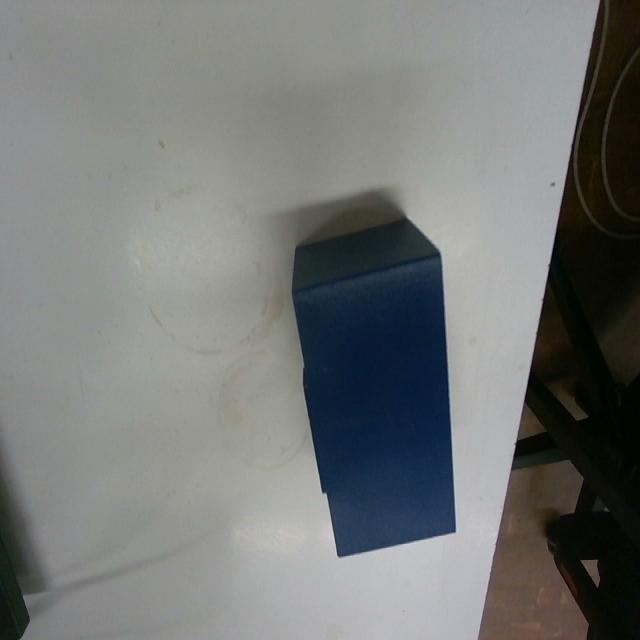Blue Cuboid: (288, 213, 458, 558)
